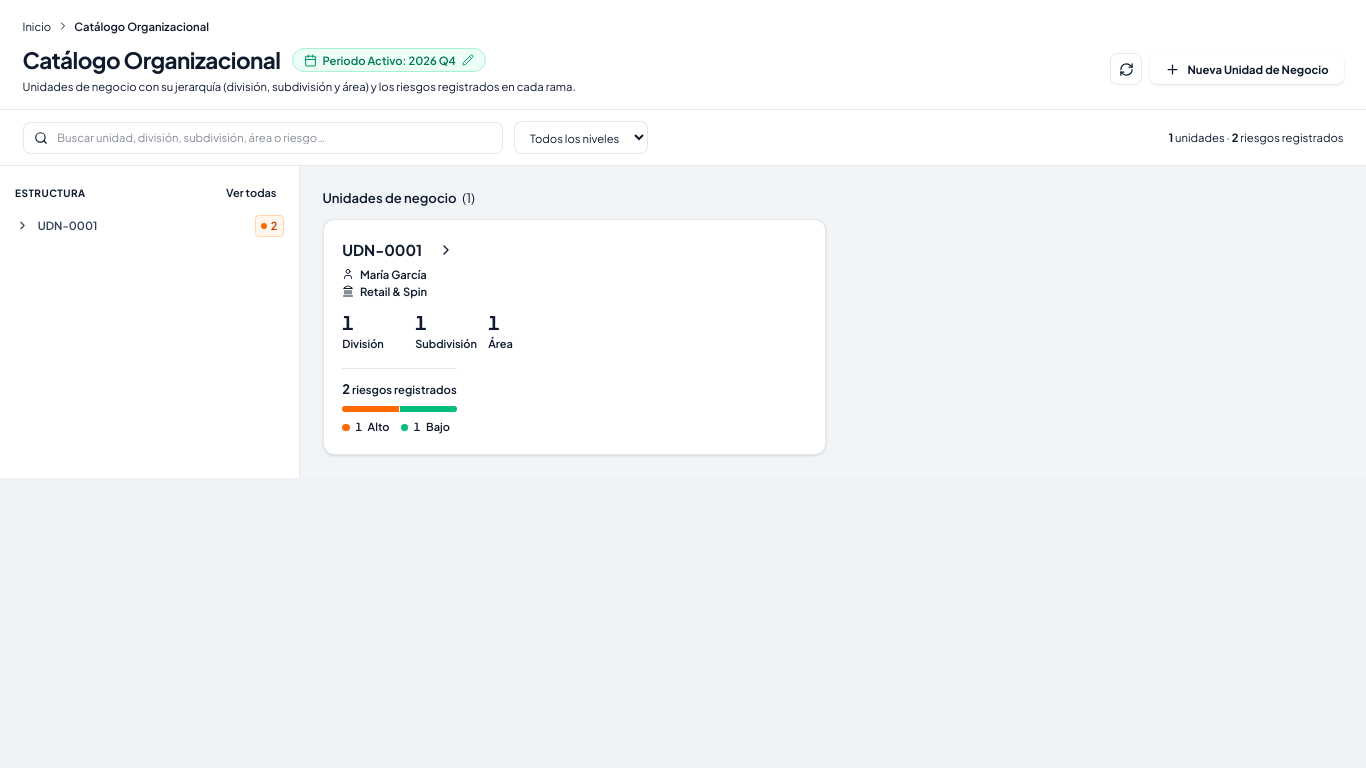
Catálogo de estructura organizacional (HierarchyView) › CP-FE-03: con un error del servidor muestra el mensaje en el formulario y lo mantiene abierto
Click the button with test id "btn-nueva-unidad": (1247, 69) [1150,54,1344,84]
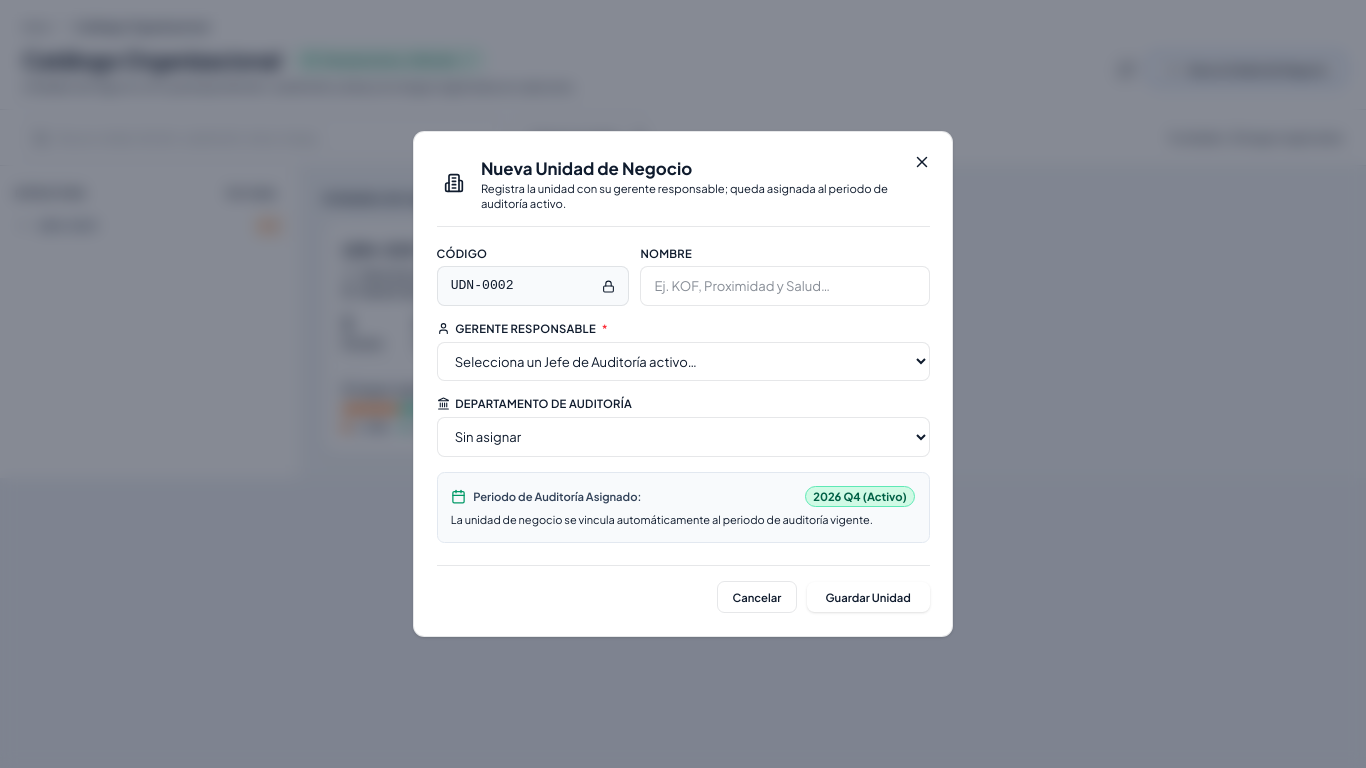
Select "María García" in the dropdown labelled "Gerente Responsable *": (683, 361) [436,342,930,381]
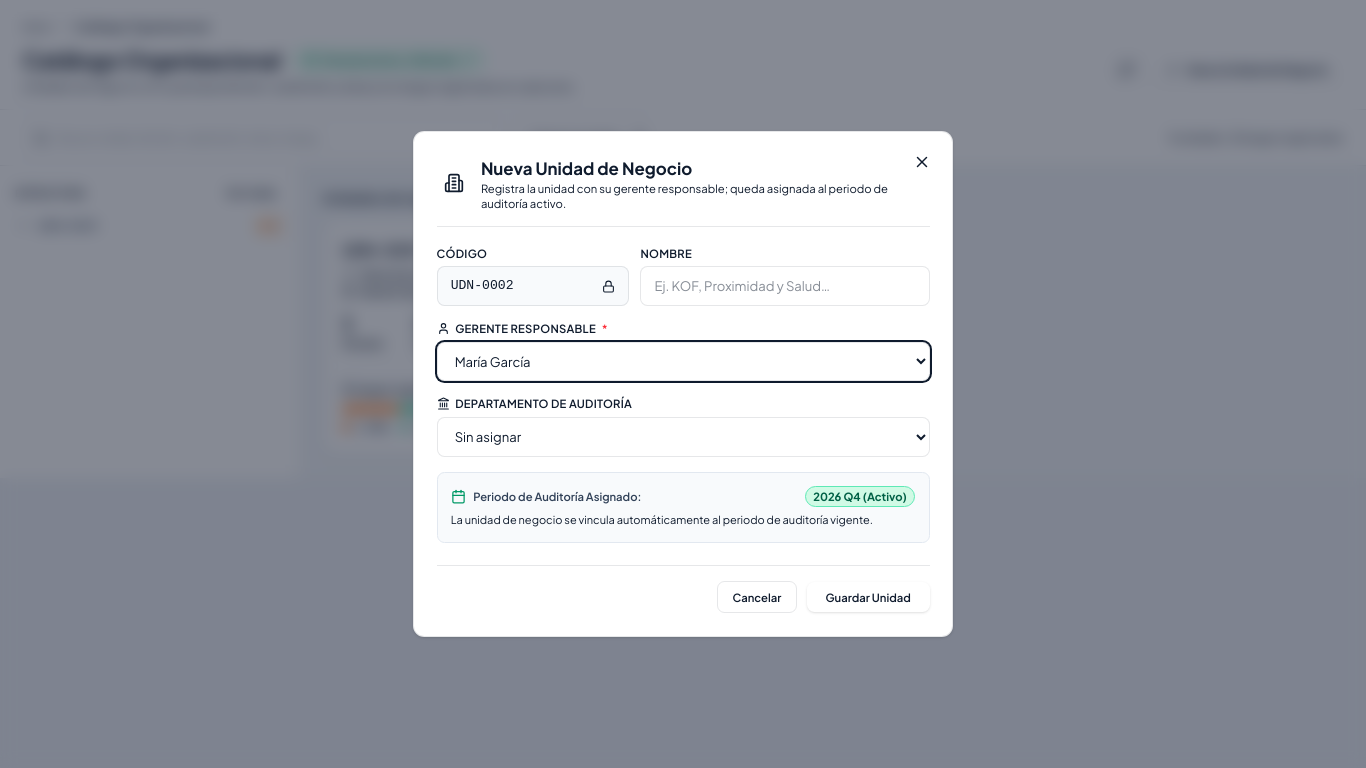
Click the button "Guardar Unidad": (868, 597) [807,582,930,612]
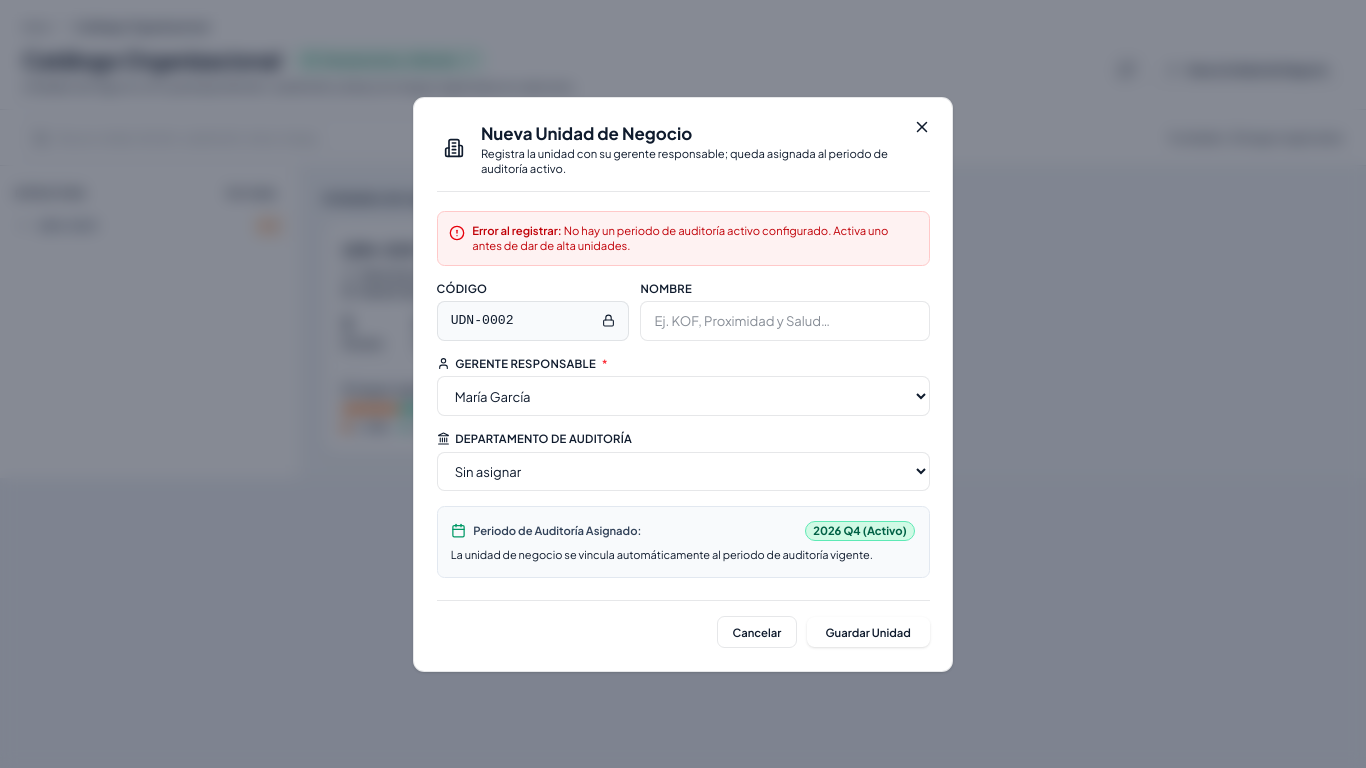
Now the button "Guardar Unidad" is shown, box [807,617,930,647]
Now the message shows "No hay un periodo de auditoría activo configurado. Activa uno antes de dar de alta unidades.", box [472,223,888,252]
